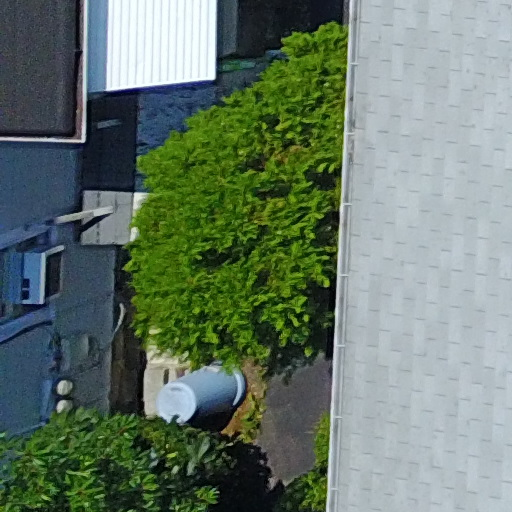trash bin: (142, 343, 270, 449)
